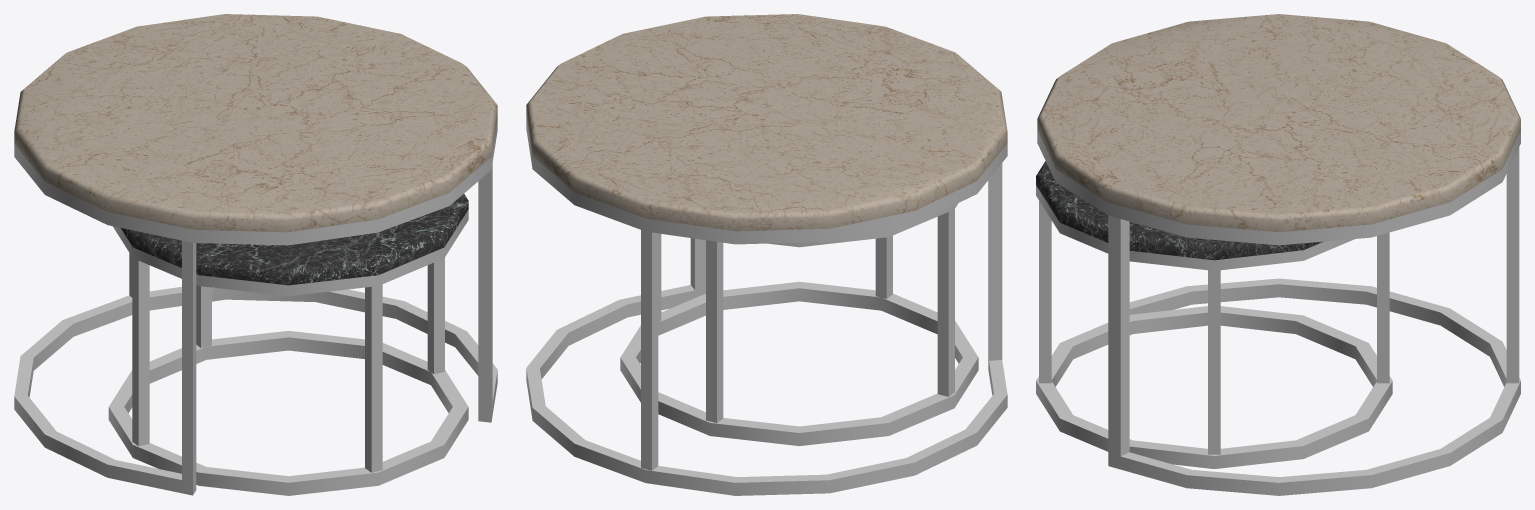
Rendered from coffee_table_002.fbx.
The picture shows the model from 3 angles, left to right: view 1: azimuth 30°, elevation 25°; view 2: azimuth 150°, elevation 25°; view 3: azimuth 270°, elevation 25°; orthographic projection.
Visible parts, largest first — view 1: coffee_table_002; view 2: coffee_table_002; view 3: coffee_table_002.
Part boxes in pixels (x1=…): coffee_table_002: x1=14, y1=14, x2=497, y2=495; coffee_table_002: x1=526, y1=14, x2=1007, y2=495; coffee_table_002: x1=1036, y1=14, x2=1520, y2=495.
Bounding box in the file's own units: 120 × 121 × 76.74.
